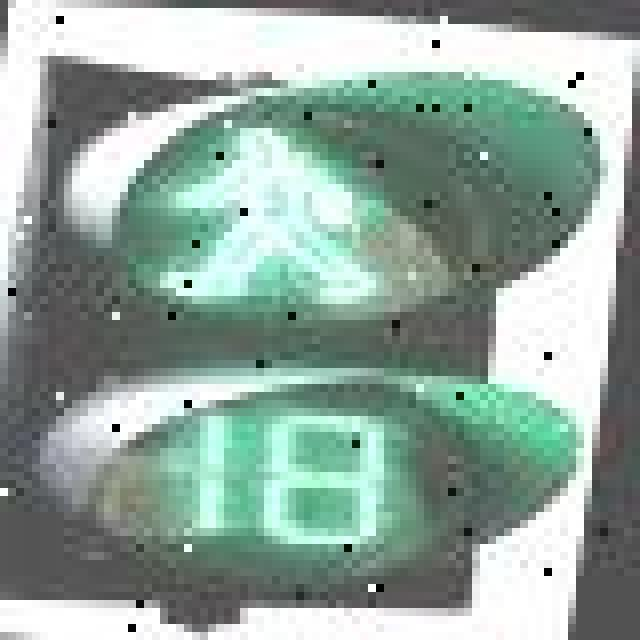greenlight: (8, 0, 520, 360)
